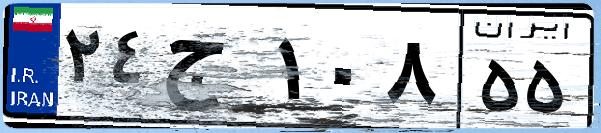0: (330, 28, 385, 110)
1: (270, 28, 330, 110)
2: (57, 26, 110, 100)
4: (110, 28, 158, 98)
5: (475, 38, 525, 113), (525, 38, 570, 115)
8: (385, 28, 445, 110)
ج: (158, 20, 270, 120)
